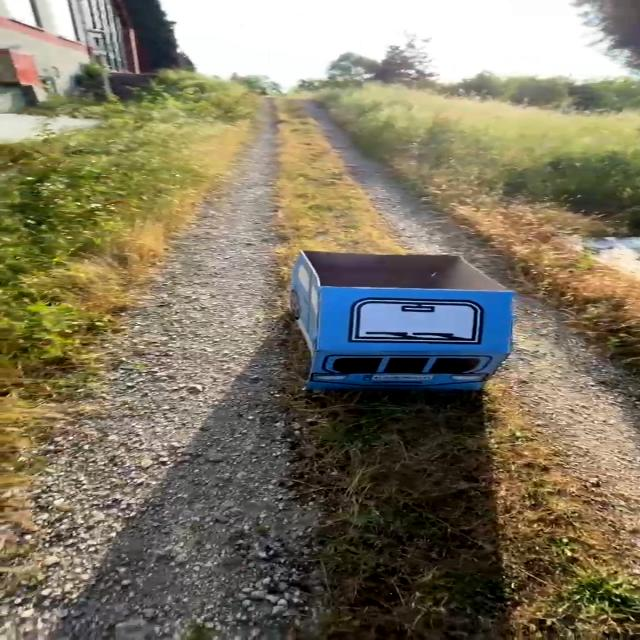blue_car: (224, 231, 550, 422)
